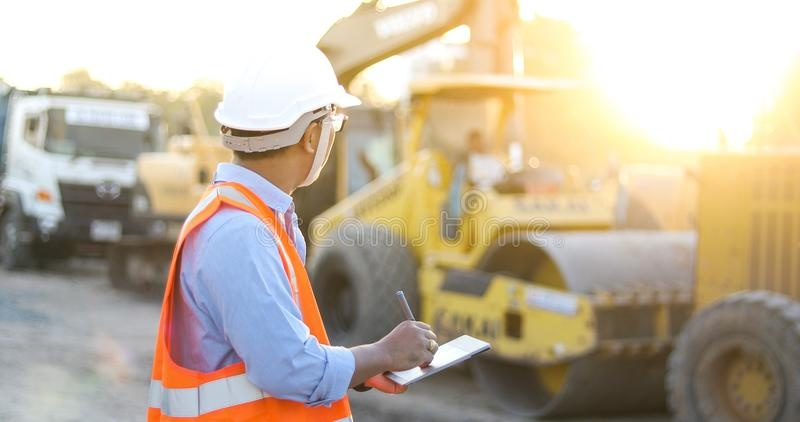white: (218, 37, 345, 192)
